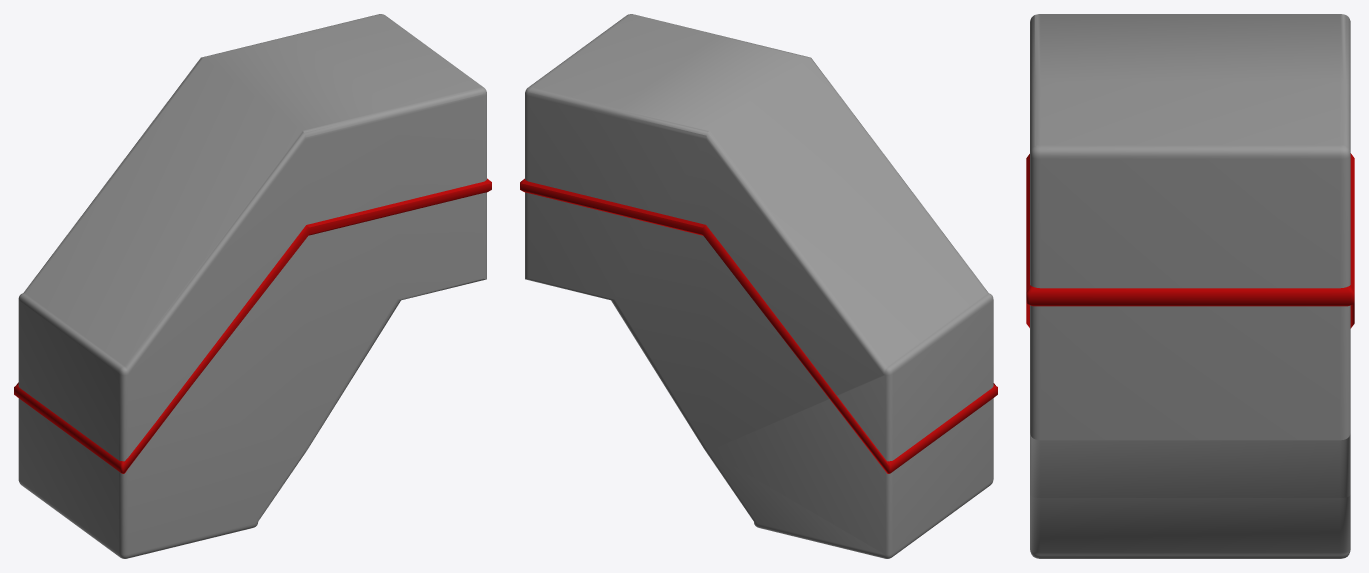
Rendered from Ramp.fbx.
3 views of the same model, side by side, from view 1: azimuth 30°, elevation 25°; view 2: azimuth 150°, elevation 25°; view 3: azimuth 270°, elevation 25° (orthographic). The views are drawn at different scales.
Visible parts, largest first — view 1: Ramp; view 2: Ramp; view 3: Ramp.
Boxes of the visible parts, x1,y1,x2,y2 form: Ramp: [14, 14, 491, 558]; Ramp: [520, 14, 997, 558]; Ramp: [1026, 14, 1354, 558].
Bounding box in the file's own units: 202 × 200 × 102.
